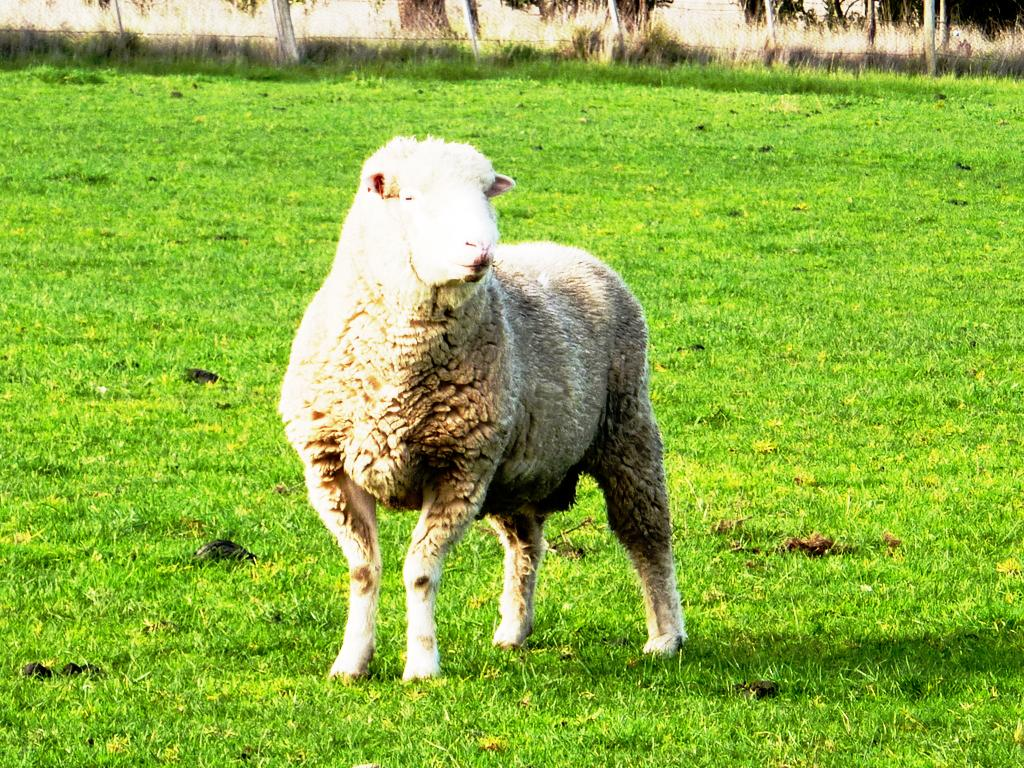Sheep: (274, 134, 688, 690)
